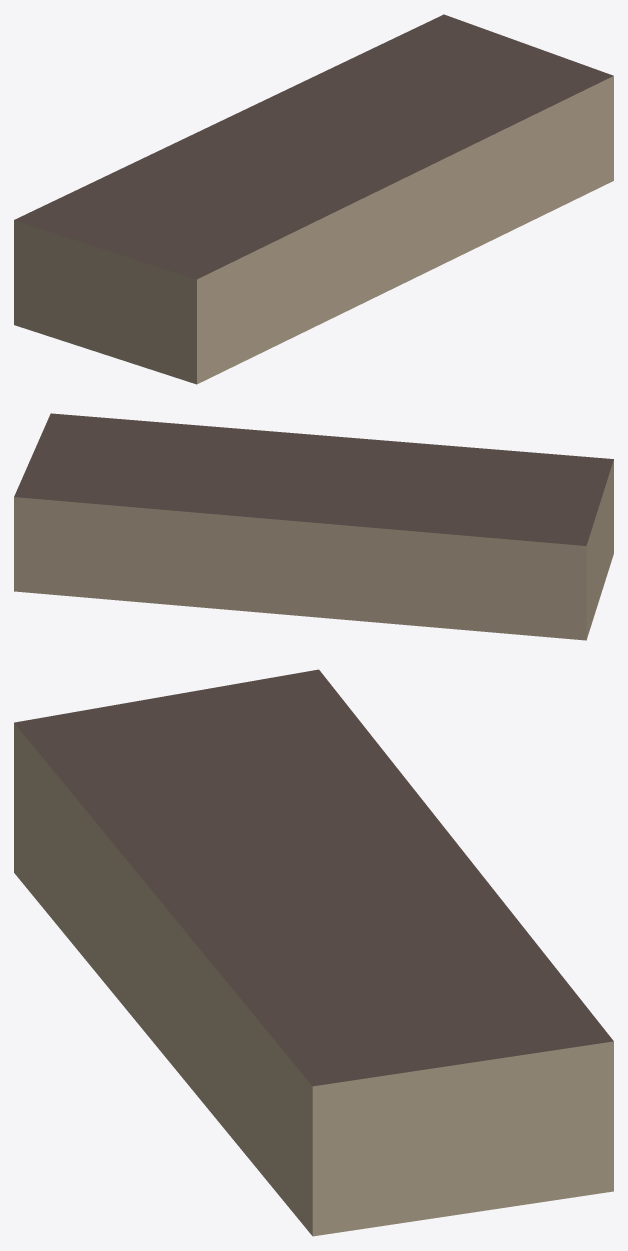
3 views of the same model, one above another, from view 1: azimuth 30°, elevation 25°; view 2: azimuth 150°, elevation 25°; view 3: azimuth 270°, elevation 25° (orthographic). The views are drawn at different scales.
Parts seen in each view (by area): view 1: HP-w1516161896; view 2: HP-w1516161896; view 3: HP-w1516161896.
Part boxes in pixels (bbox=[...]): HP-w1516161896: bbox=[14, 14, 613, 384]; HP-w1516161896: bbox=[14, 413, 613, 640]; HP-w1516161896: bbox=[14, 669, 613, 1236].
Size of the model in its own units: 53.62 by 9 by 32.61.
